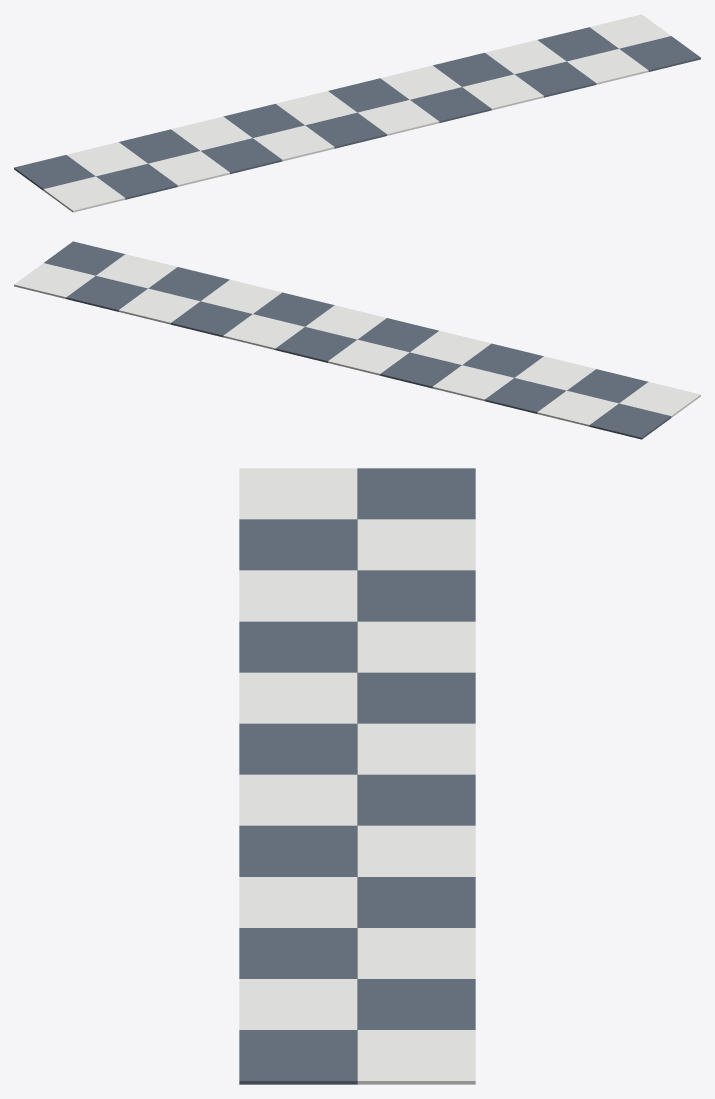
Rendered from linea_meta.glb.
3 views of the same model, one above another, from view 1: azimuth 30°, elevation 25°; view 2: azimuth 150°, elevation 25°; view 3: azimuth 270°, elevation 25° (orthographic). The views are drawn at different scales.
Visible parts, largest first — view 1: linea_meta; view 2: linea_meta; view 3: linea_meta.
Part boxes in pixels (left/top/right/bottom): linea_meta: left=14, top=14, right=700, bottom=212; linea_meta: left=14, top=241, right=700, bottom=439; linea_meta: left=239, top=468, right=475, bottom=1084.
Bounding box in the file's own units: 11.04 × 0.03 × 1.8.
